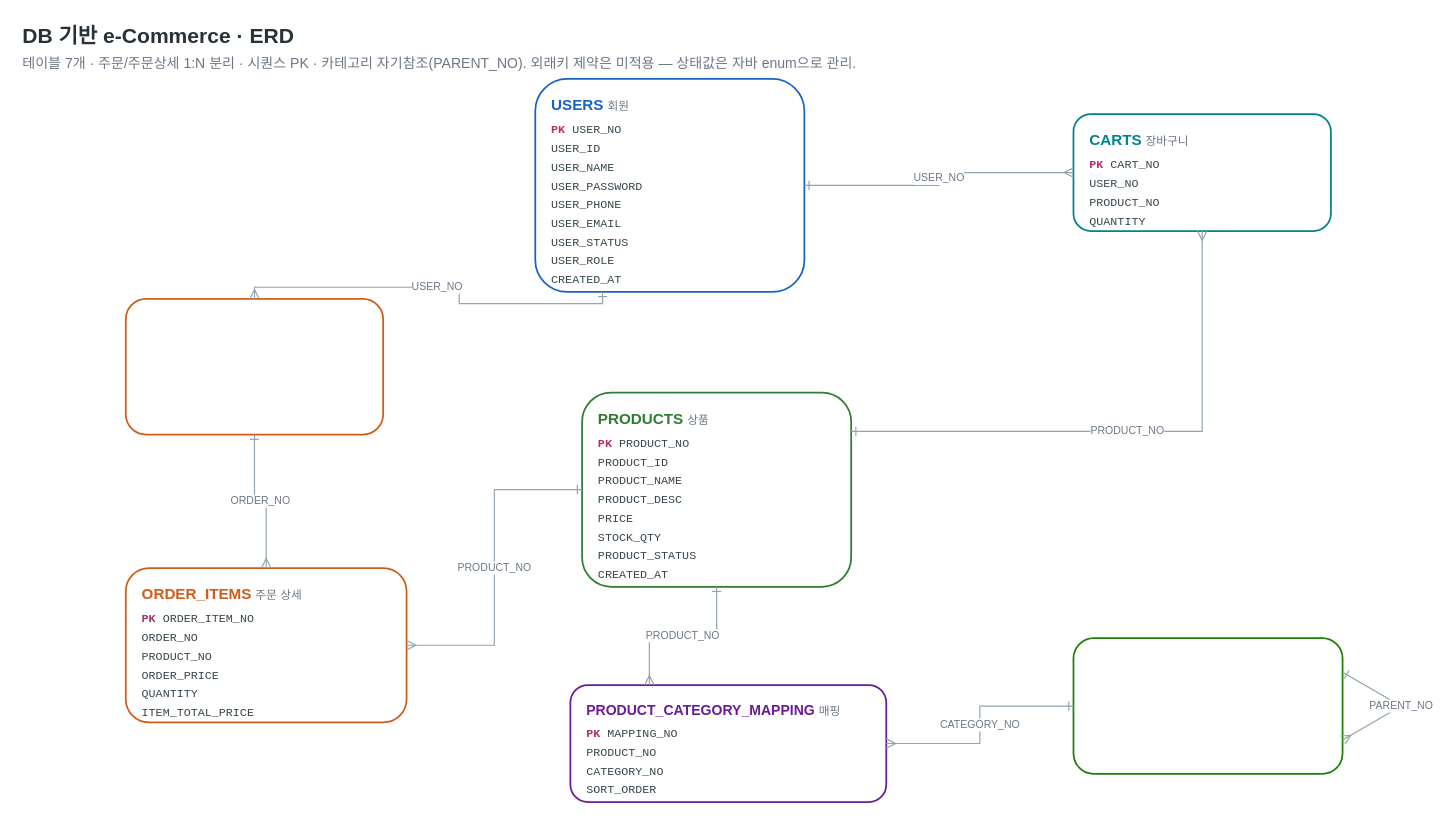
This 1452x823 diagram has some shape labels left out. The shapes that lost their labels are listed below. From the top down, each one's box as (x1, y1, x2, y2) in pixels, then its label:
(124, 298, 384, 435): ORDERS 주문 PK ORDER_NO USER_NO ORDER_STATUS ORDER_DATE TOTAL_PRICE
(1072, 637, 1343, 774): CATEGORIES 카테고리 PK CATEGORY_NO CATEGORY_ID PARENT_NO CATEGORY_NAME SORT_ORDER
